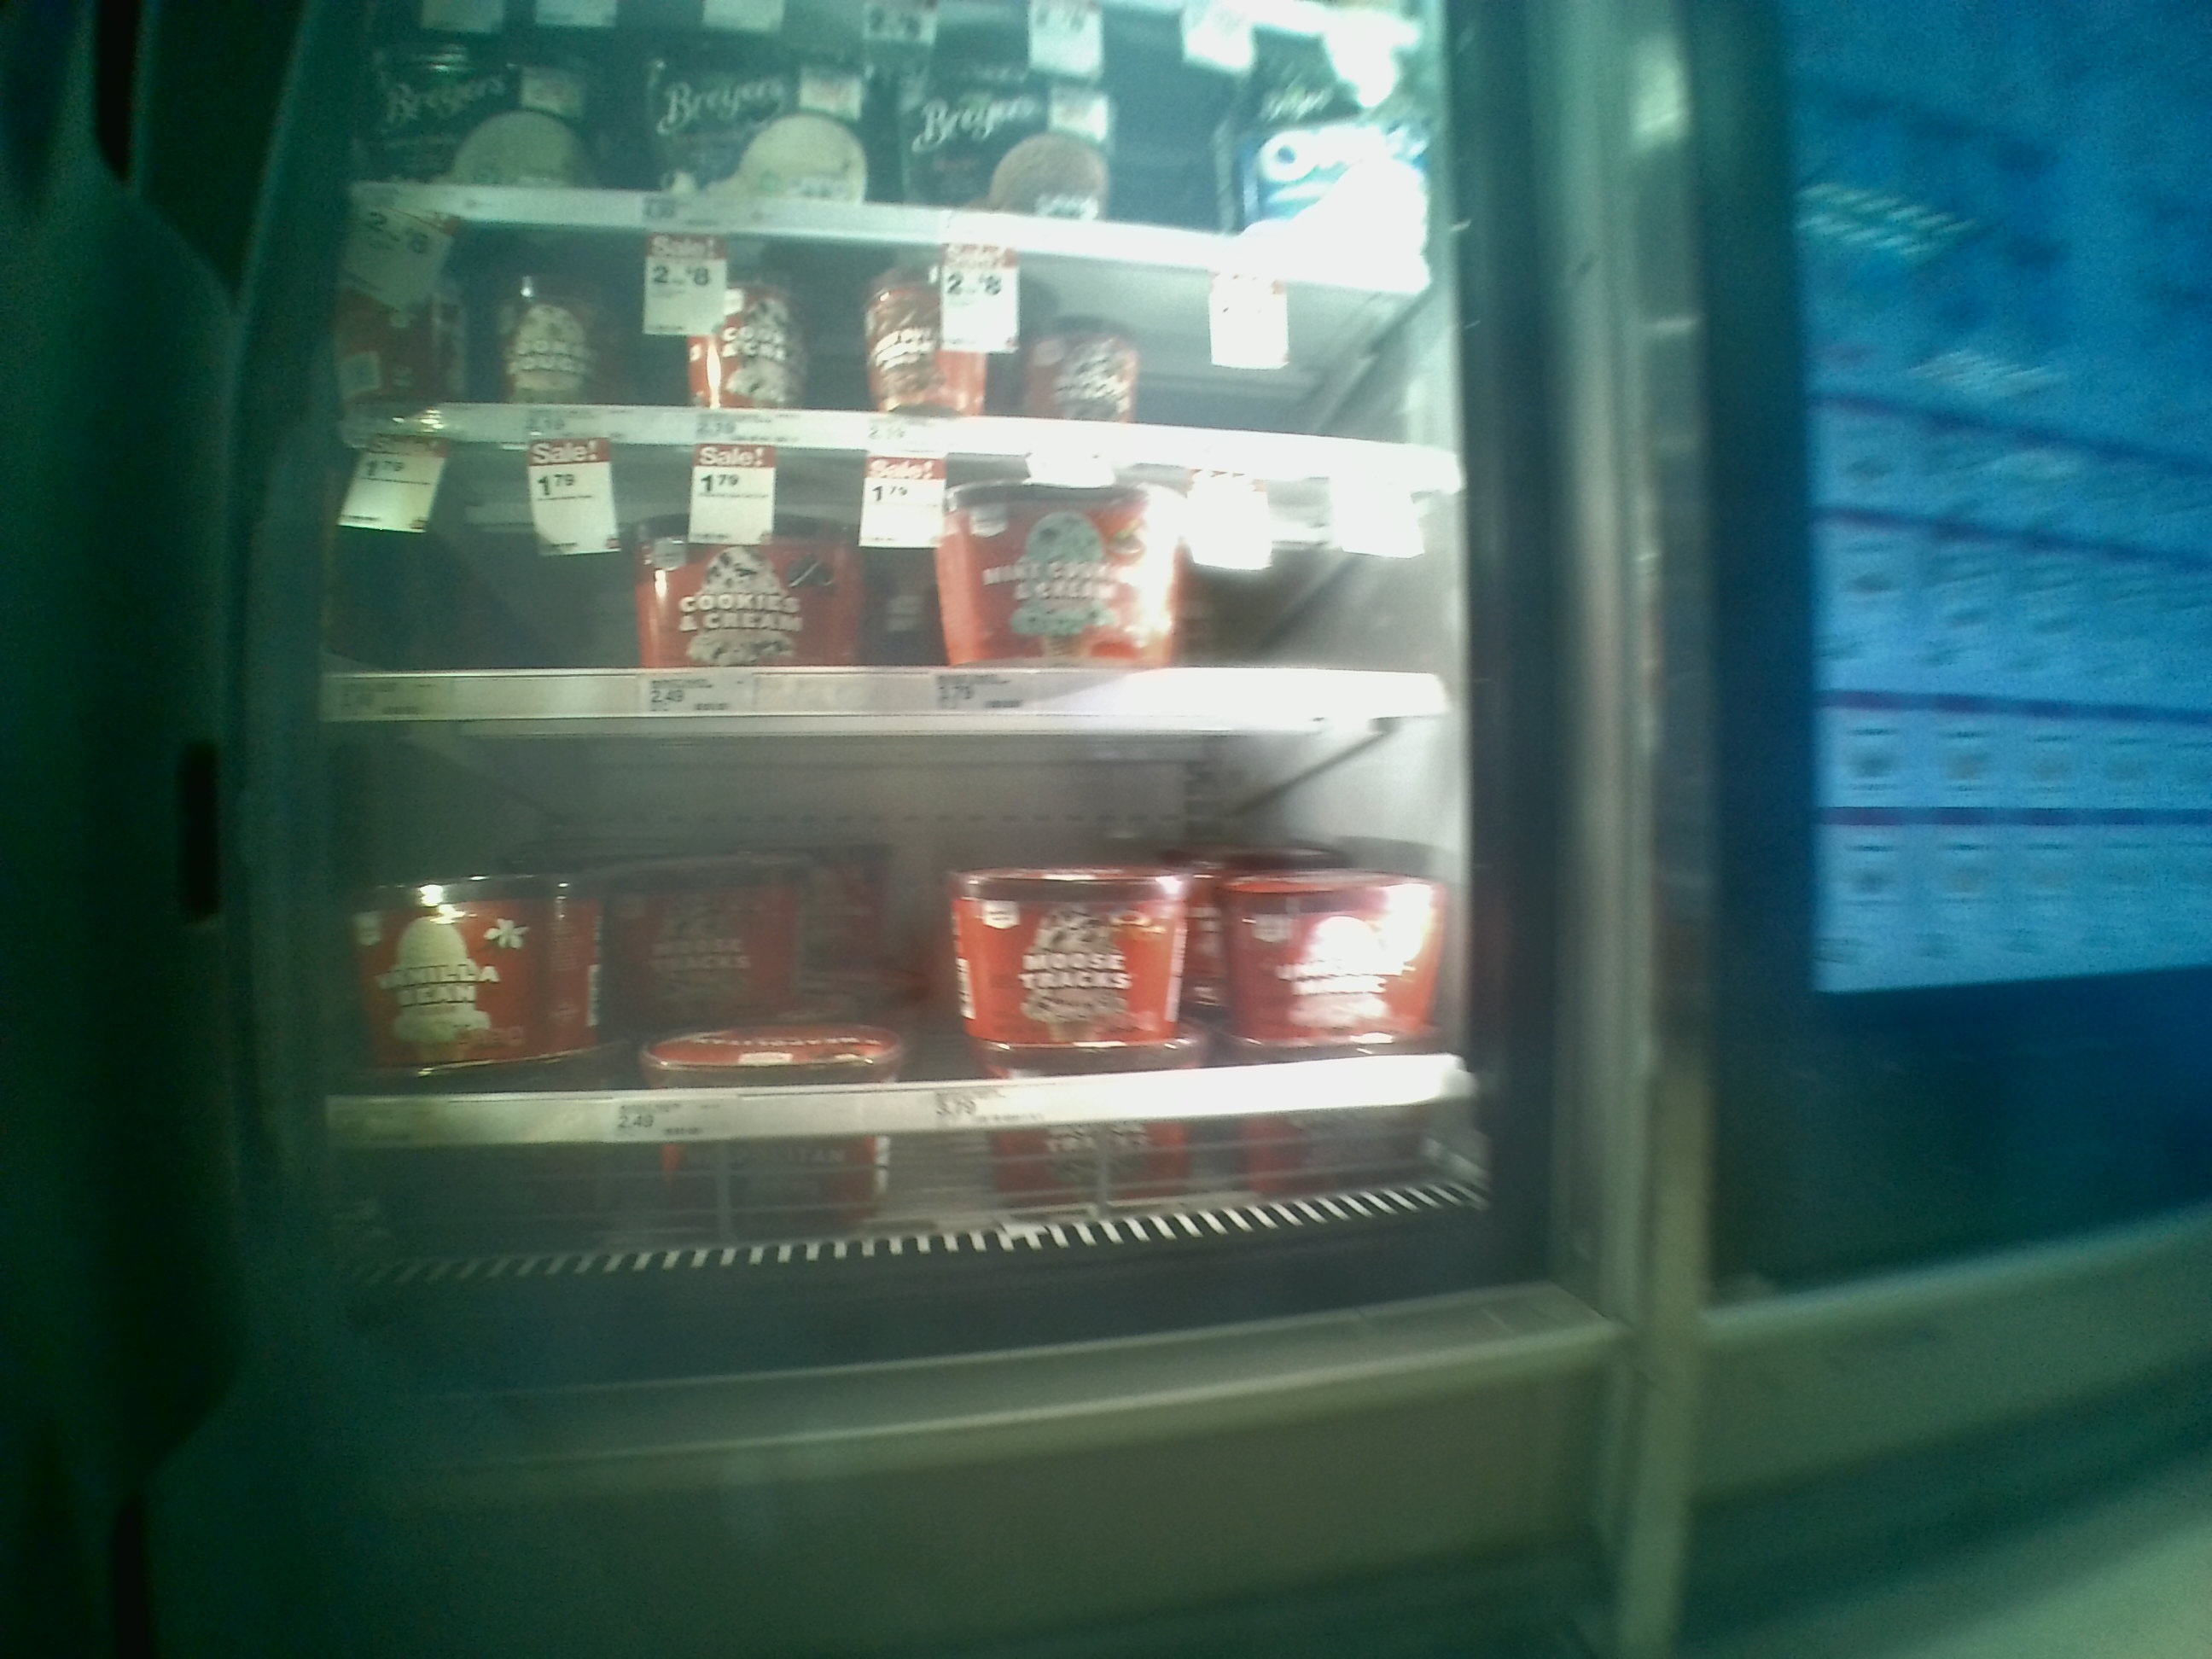ice-cream-shelf: (324, 723, 1486, 1127)
